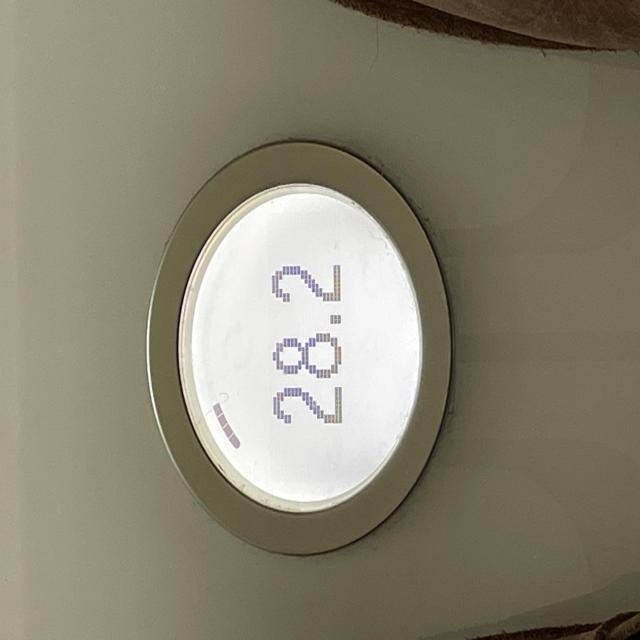ws: (144, 144, 455, 559)
